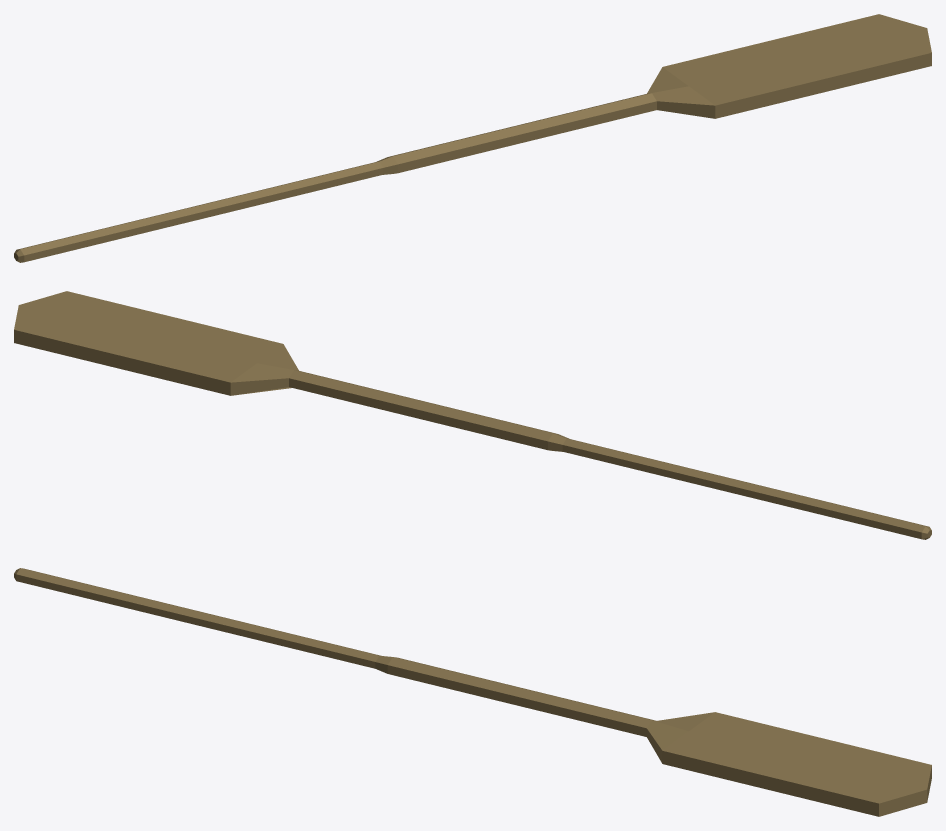
The model's file is Paddle.fbx.
3 views of the same model, one above another, from view 1: azimuth 30°, elevation 25°; view 2: azimuth 150°, elevation 25°; view 3: azimuth 330°, elevation 25° (orthographic).
Visible parts, largest first — view 1: Paddle; view 2: Paddle; view 3: Paddle.
Part boxes in pixels (x1,y1,x2,y2): Paddle: [14, 14, 931, 262]; Paddle: [14, 291, 931, 539]; Paddle: [14, 568, 931, 816].
Size of the model in its own units: 261 by 4.84 by 26.19.
